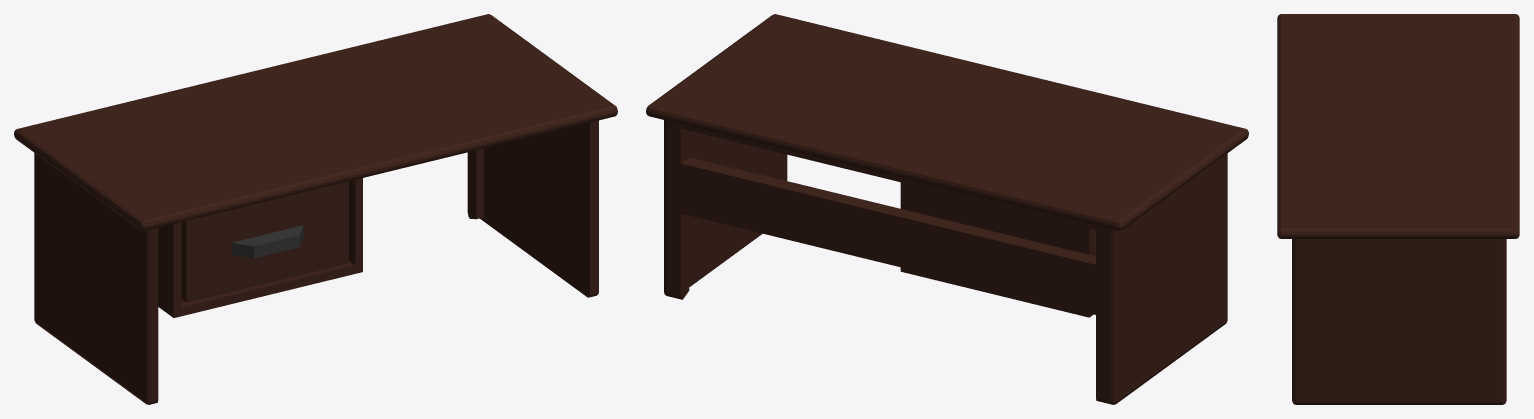
File: TeacherDesk.fbx
3 views of the same model, side by side, from view 1: azimuth 30°, elevation 25°; view 2: azimuth 150°, elevation 25°; view 3: azimuth 270°, elevation 25° (orthographic). The views are drawn at different scales.
Parts seen in each view (by area): view 1: pCube21, pCube22, Object007; view 2: pCube21, pCube22; view 3: pCube21, pCube22.
Boxes of the visible parts, bbox=[...] form: pCube21: bbox=[14, 14, 617, 317]; pCube22: bbox=[34, 120, 598, 404]; Object007: bbox=[181, 181, 348, 302]; pCube21: bbox=[646, 14, 1248, 317]; pCube22: bbox=[664, 120, 1227, 404]; pCube21: bbox=[1277, 14, 1519, 238]; pCube22: bbox=[1292, 239, 1506, 404].
Bounding box in the file's own units: 5.89 × 2.28 × 2.77.
